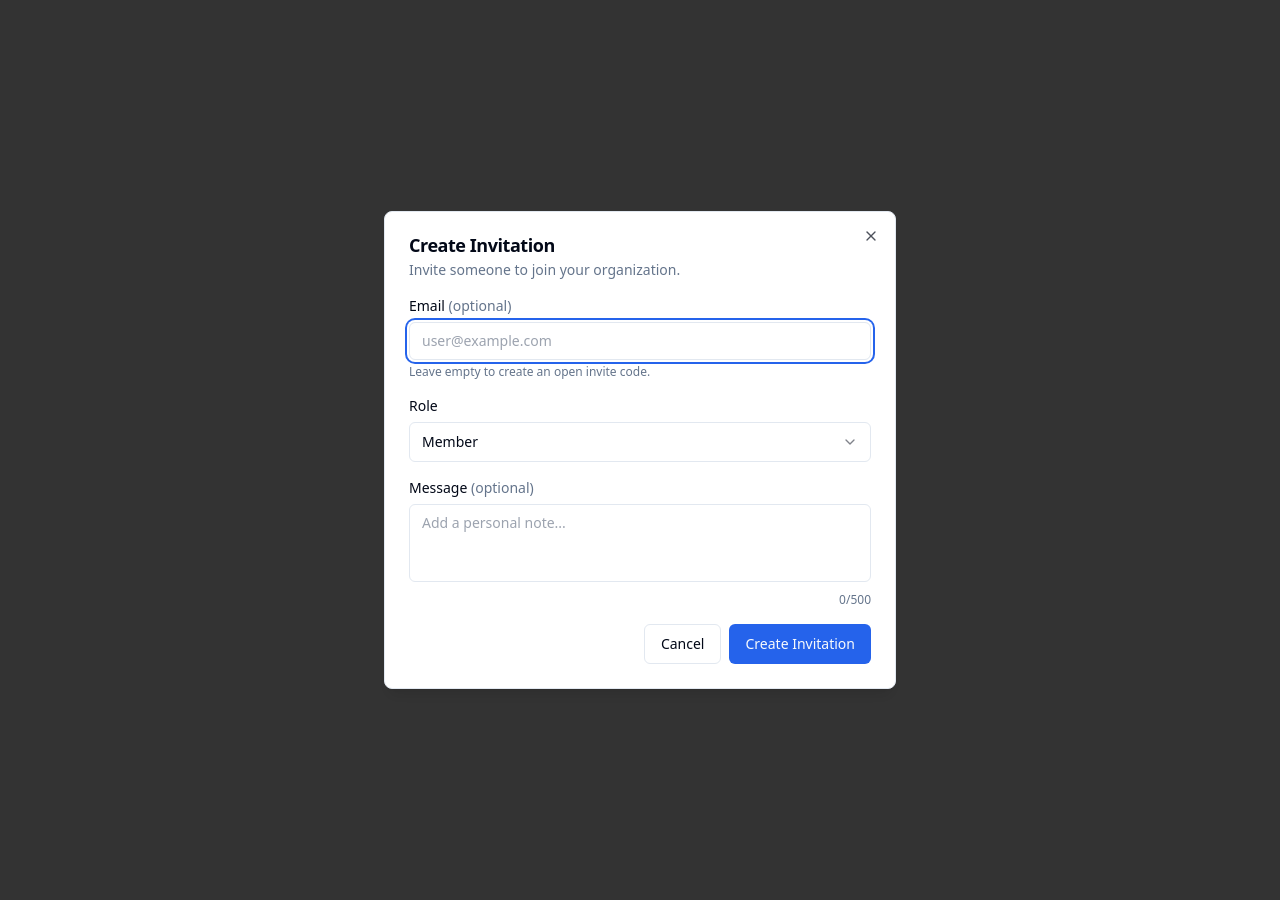
CreateInvitationDialog › should not allow creating with invalid email
Type "invalid-email" into the field labelled "Email (optional)". click: (640, 341)
box: [409, 322, 871, 360]
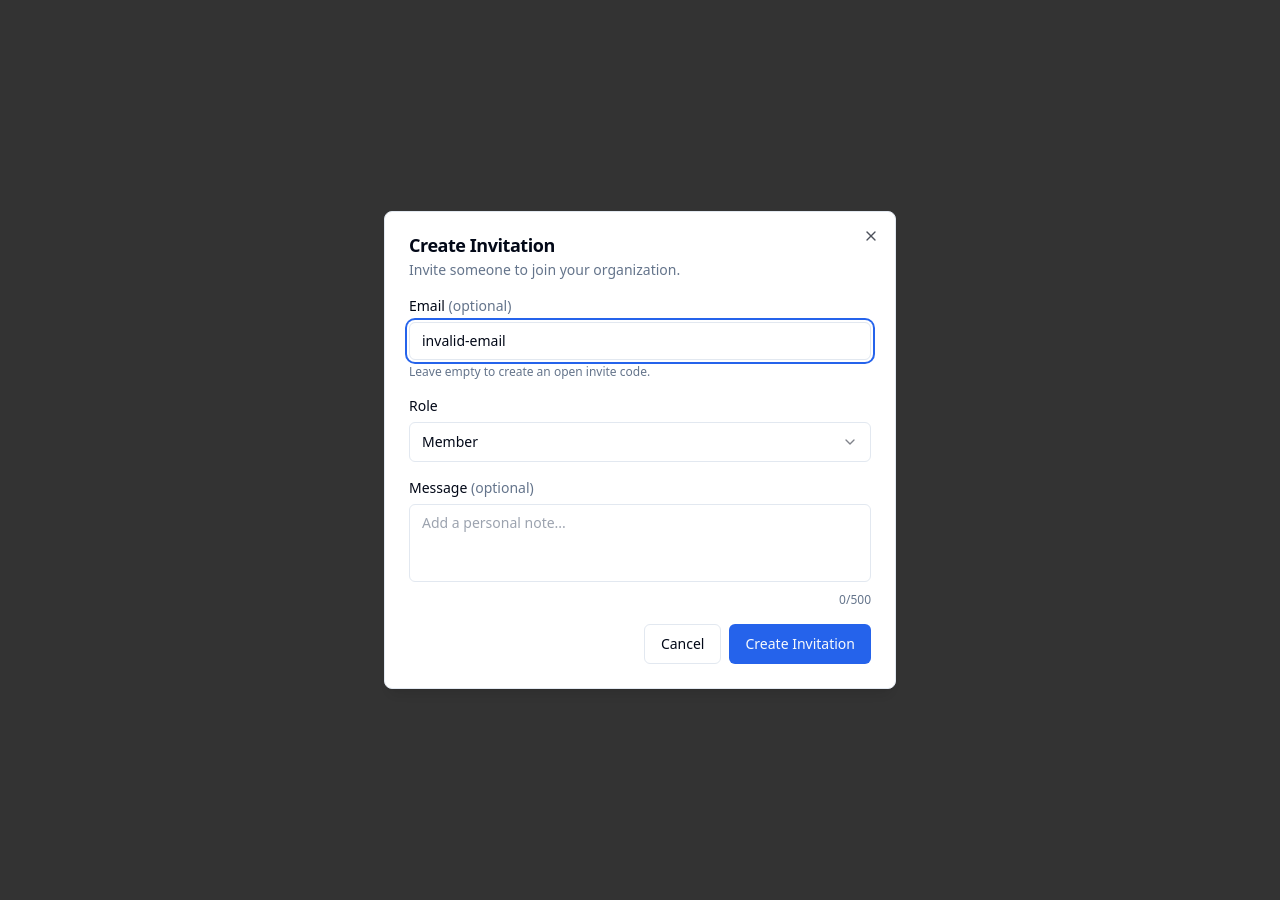
Press Tab
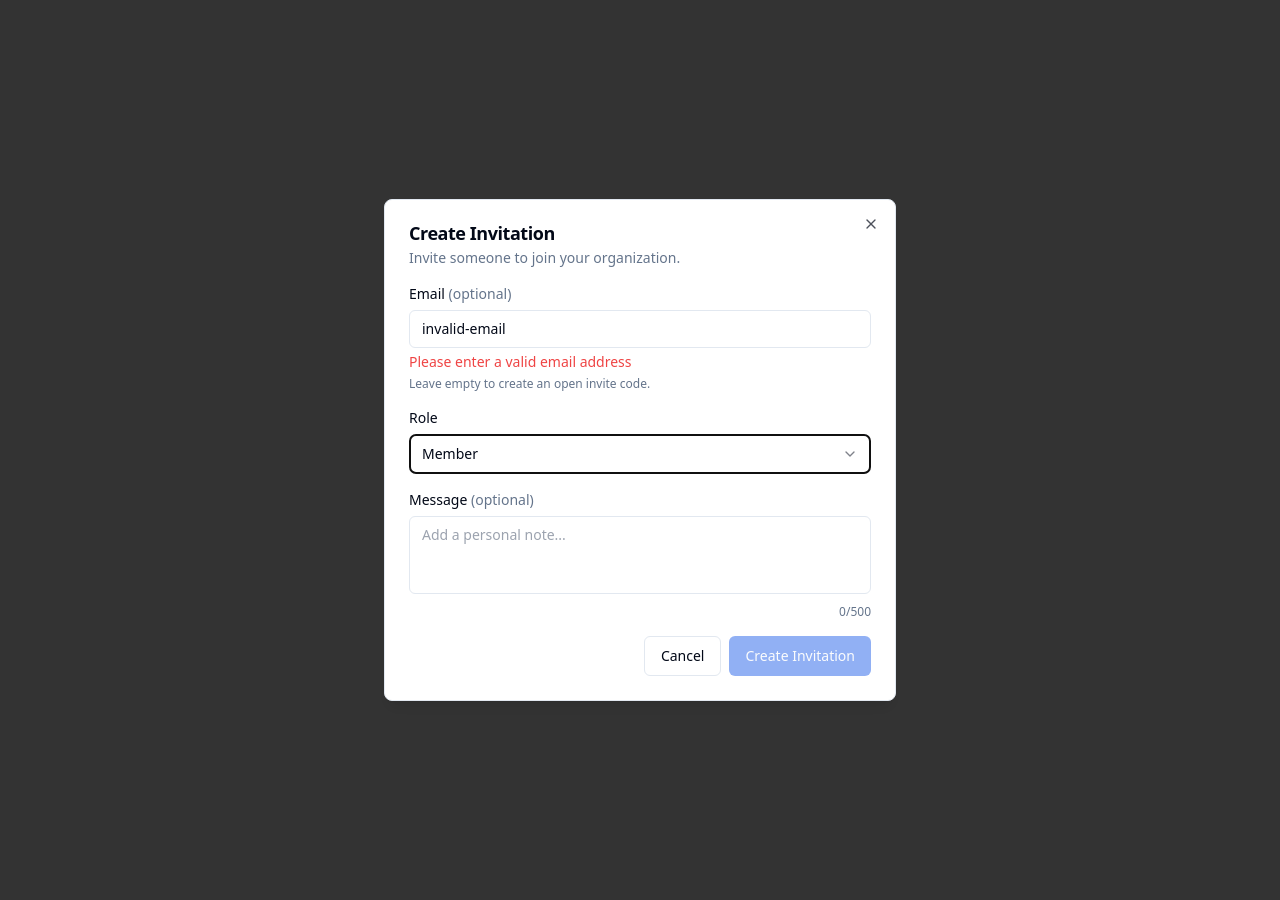
Now the button "Create Invitation" is disabled, box [730, 636, 871, 676]
